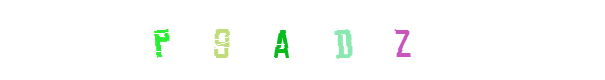9: (183, 0, 263, 80)
A: (263, 0, 343, 80)
D: (291, 0, 371, 80)
P: (182, 0, 262, 80)
Z: (362, 0, 442, 80)
